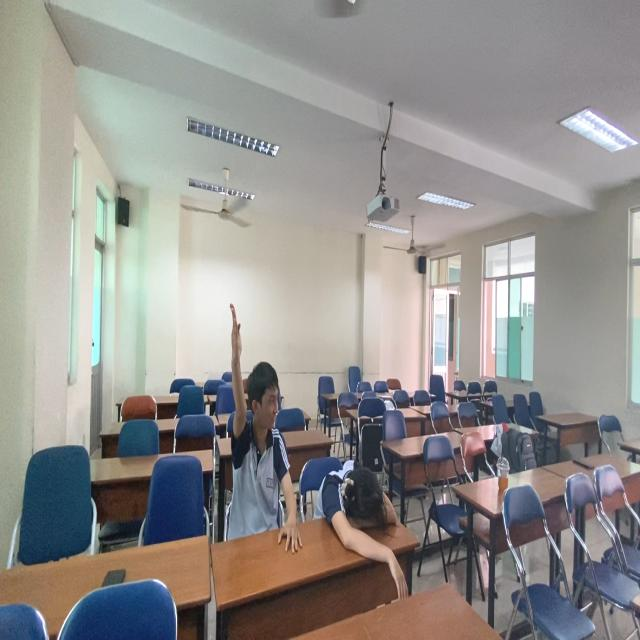raise_hand: (221, 295, 306, 559)
sleep: (316, 445, 406, 548)
